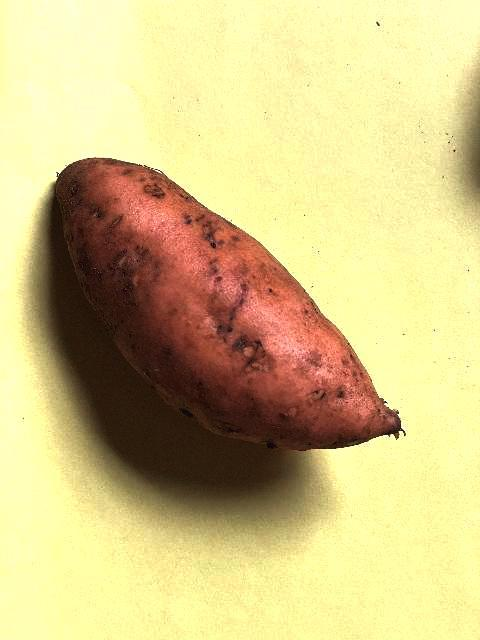sweetpotato: (54, 154, 402, 453)
